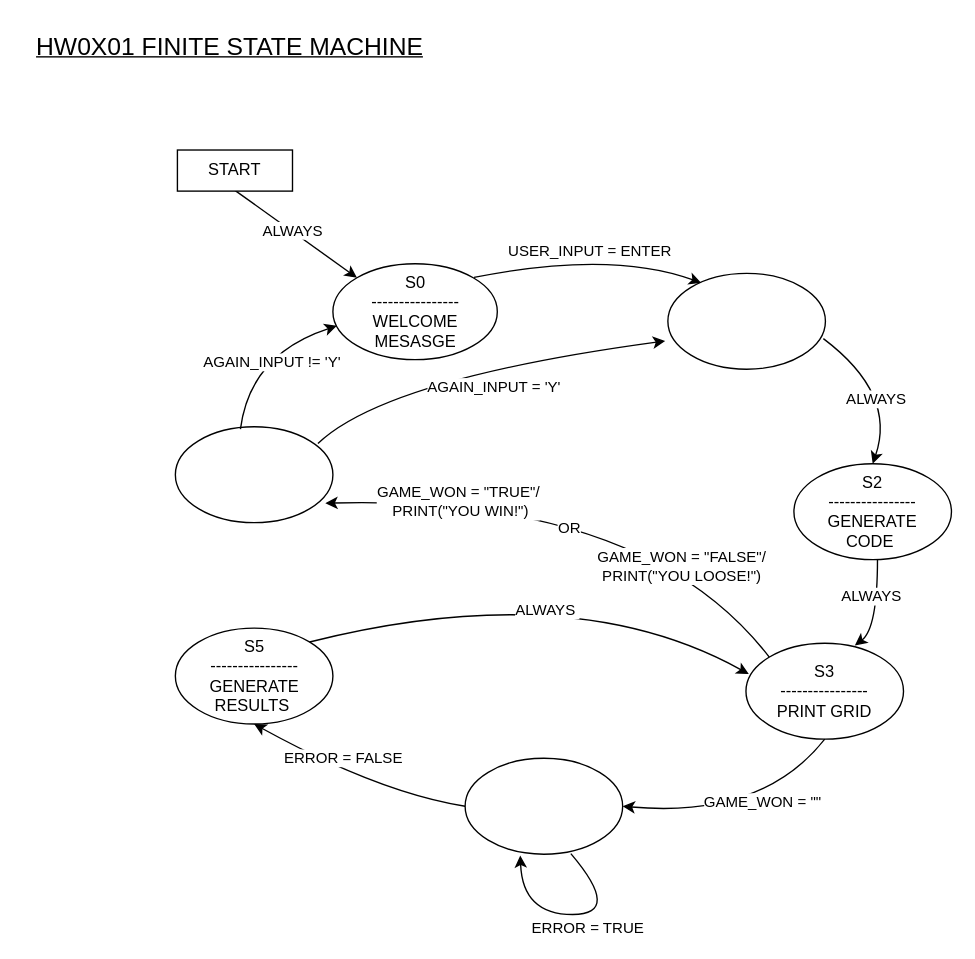
The diagram is 975 pixels wide and 959 high, and some of its shapes have lost their labels. The shapes that lost their labels are listed below. From the top down, each one's box as (x1, y1, x2, y2) in pixels, then its label:
(667, 272, 825, 369): S1 ---------------- INITIALIZE VARIABLES
(174, 425, 333, 523): S6 ---------------- NEW GAME
(464, 757, 623, 854): S4 ---------------- CHECK INPUT
